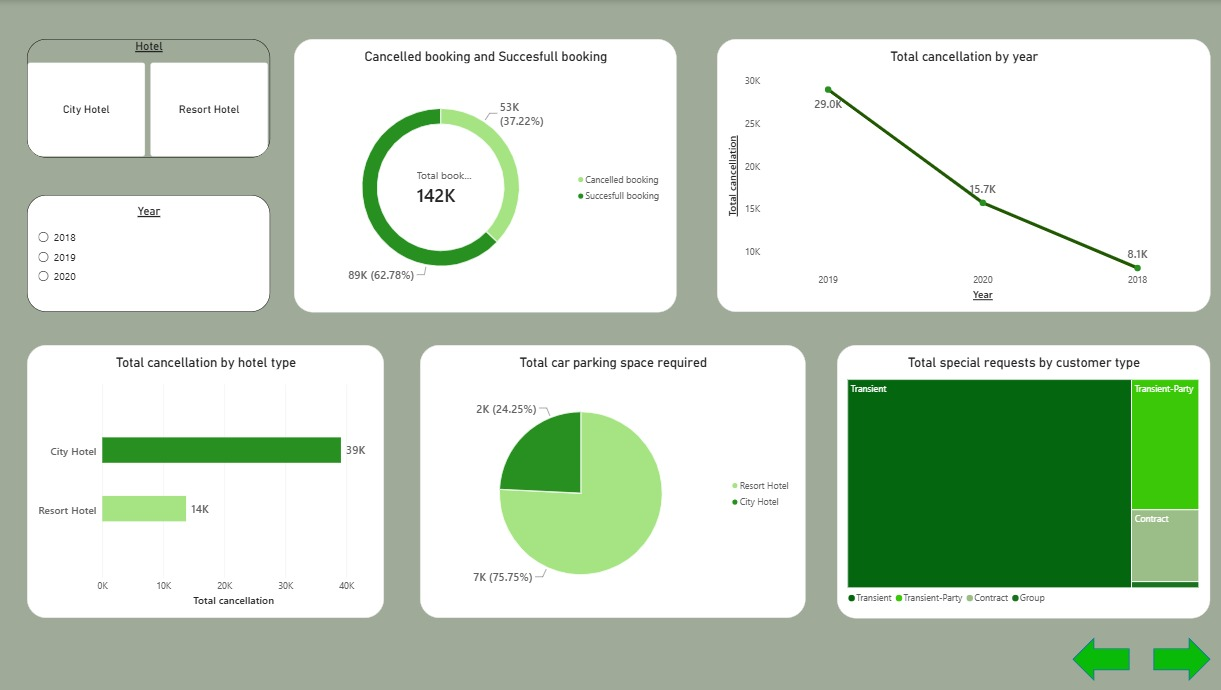

What the dashboard file says about the page in this screenshot:
{"tool":"powerbi","page":{"name":"Page 2","canvas":[1920,1080],"ordinal":1},"visuals":[{"type":"barChart","title":"Total cancellation by hotel type","fields":{"Category":["hotel booking.hotel"],"Y":["Sum(hotel booking.is_canceled)"]},"box":[42.2,539.2,558,426.7],"z":0},{"type":"donutChart","fields":{"Y":["2018.Cancelled booking","2018.Succesfull booking"]},"box":[459.5,61,598,427],"z":1000},{"type":"cardVisual","title":"Total booking","fields":{"Data":["2018.total bookin"]},"box":[635,235,121.9,117],"z":2000},{"type":"lineChart","title":"Total cancellation by  year","fields":{"Category":["hotel booking.Year"],"Y":["Sum(hotel booking.is_canceled)"]},"box":[1120.7,61,771.3,426.7],"z":3000},{"type":"treemap","title":"Total special requests by customer type","fields":{"Group":["hotel booking.customer_type"],"Values":["Sum(hotel booking.total_of_special_requests)"]},"box":[1308.2,539.2,583,427],"z":4000},{"type":"advancedSlicerVisual","title":"Hotel","fields":{"Values":["hotel booking.hotel"]},"box":[42.2,61,379.8,185.2],"z":5000},{"type":"listSlicer","fields":{"Values":["hotel booking.Year"]},"box":[42.2,304.8,379.8,182.9],"z":6000},{"type":"pieChart","title":"Total car parking space required","fields":{"Category":["hotel booking.hotel"],"Y":["Sum(hotel booking.required_car_parking_spaces)"]},"box":[656.5,539.2,602.5,426.7],"z":7000},{"type":"shape","box":[1802.9,996.4,89.1,68],"z":8000},{"type":"shape","box":[1676.3,996.4,89.1,68],"z":9000}]}

Visuals, with their boxes in screenshot pixels (x1, y1, x2, y2), scaled from the page's 1920x1080 canvas onto the 1221x690 screenshot:
"Total cancellation by hotel type" barChart: rect(27, 344, 382, 617)
donutChart - 2018.Cancelled booking x 2018.Succesfull booking: rect(292, 39, 673, 312)
"Total booking" cardVisual: rect(404, 150, 481, 225)
"Total cancellation by  year" lineChart: rect(713, 39, 1203, 312)
"Total special requests by customer type" treemap: rect(832, 344, 1203, 617)
"Hotel" advancedSlicerVisual: rect(27, 39, 268, 157)
listSlicer - hotel booking.Year: rect(27, 195, 268, 312)
"Total car parking space required" pieChart: rect(417, 344, 801, 617)
shape: rect(1147, 637, 1203, 680)
shape: rect(1066, 637, 1123, 680)
